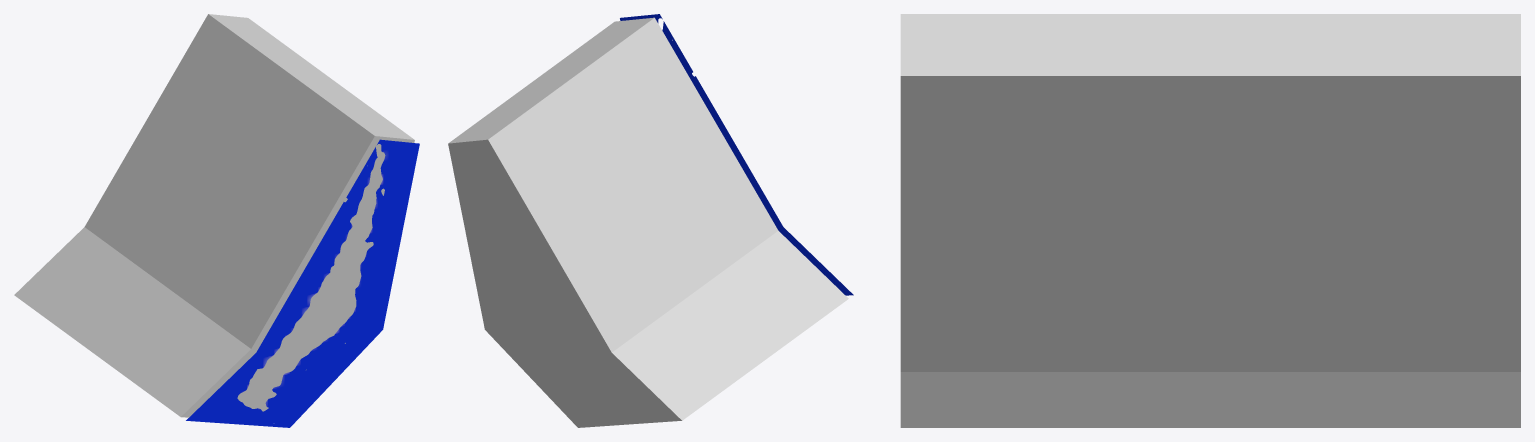
The picture shows the model from 3 angles, left to right: view 1: azimuth 30°, elevation 25°; view 2: azimuth 150°, elevation 25°; view 3: azimuth 270°, elevation 25°; orthographic projection. The views are drawn at different scales.
Visible parts, largest first — view 1: Out_7_0, Out_7_1; view 2: Out_7_0, Out_7_1; view 3: Out_7_0.
Part boxes in pixels (x1,y1,x2,y2): Out_7_0: (14,14,414,417); Out_7_1: (186,139,419,427); Out_7_0: (448,17,848,427); Out_7_1: (620,14,853,295); Out_7_0: (900,14,1520,427).
Size of the model in its own units: 0.4056 by 0.4408 by 0.515.
2 materials, 1 textured.
